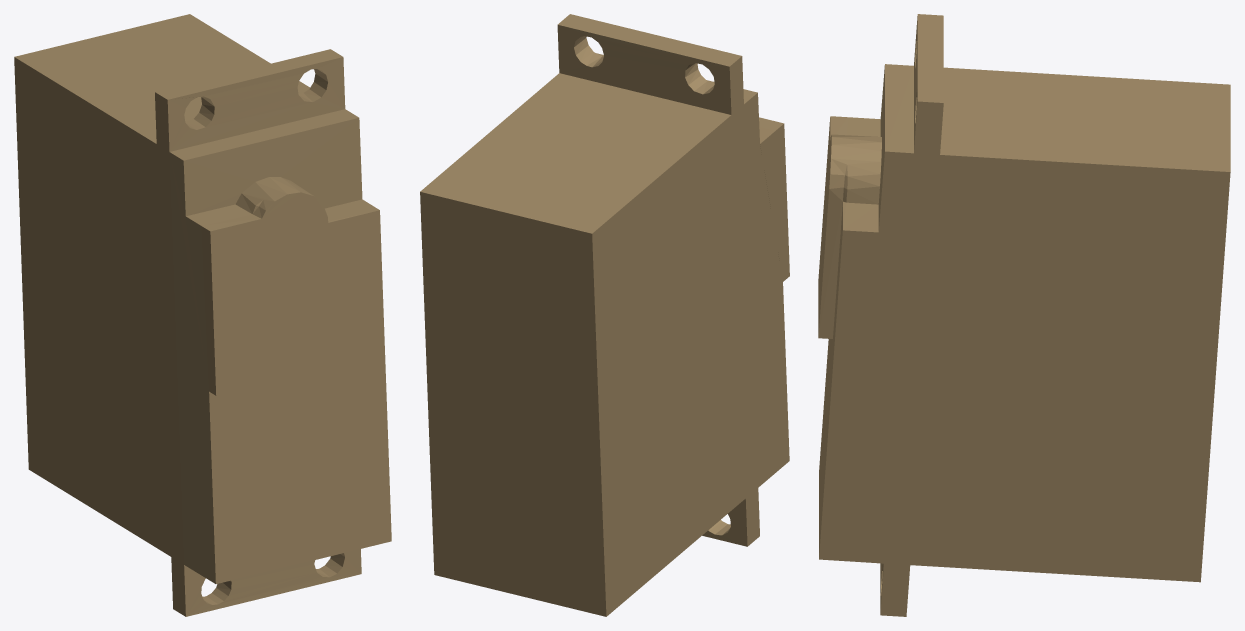
The model's file is left_elbow_x_link_visual_9.obj.light.glb.
3 views of the same model, side by side, from view 1: azimuth 30°, elevation 25°; view 2: azimuth 150°, elevation 25°; view 3: azimuth 270°, elevation 25° (orthographic). The views are drawn at different scales.
Bounding box in the file's own units: 0.2828 × 0.7762 × 0.5625.
